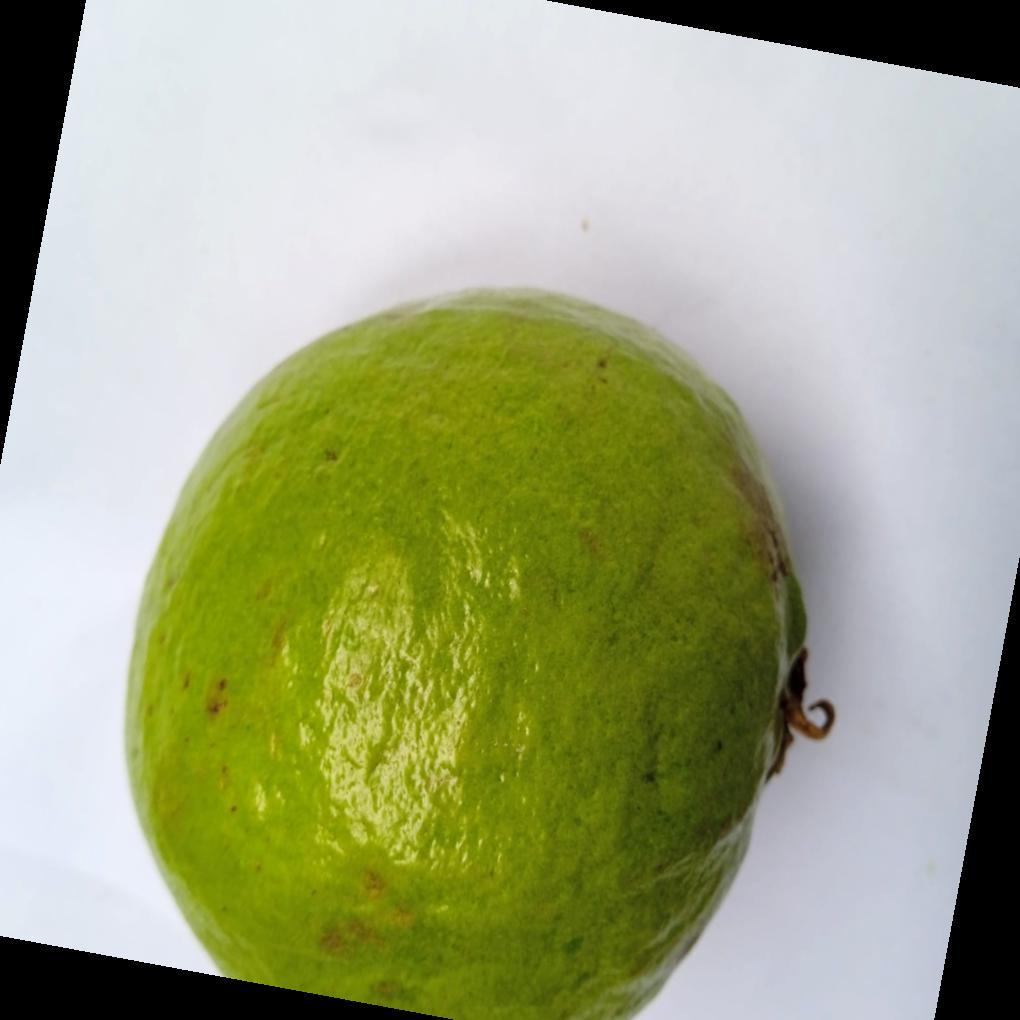FreshGuava: (120, 288, 826, 1020)
